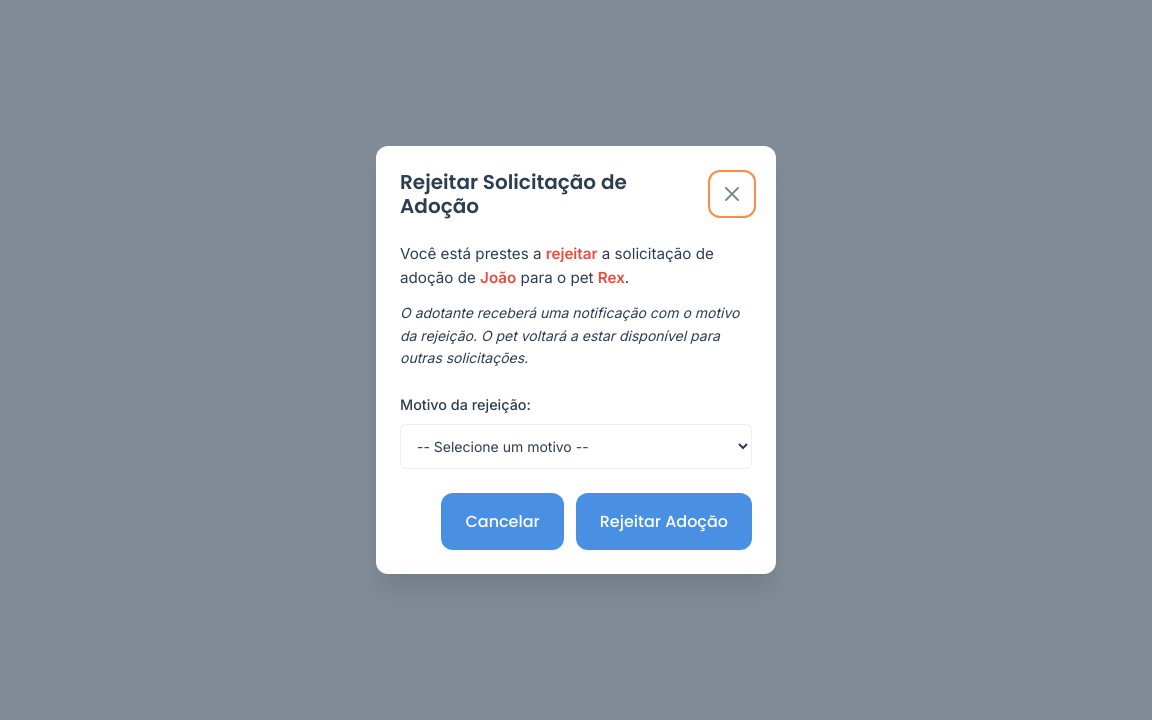
it: RejectionModal Component › Form Validation › should show error when no reason is selected
Click the button "Rejeitar Adoção". click: {"x": 664, "y": 522}
box: x1=576 y1=493 x2=752 y2=550
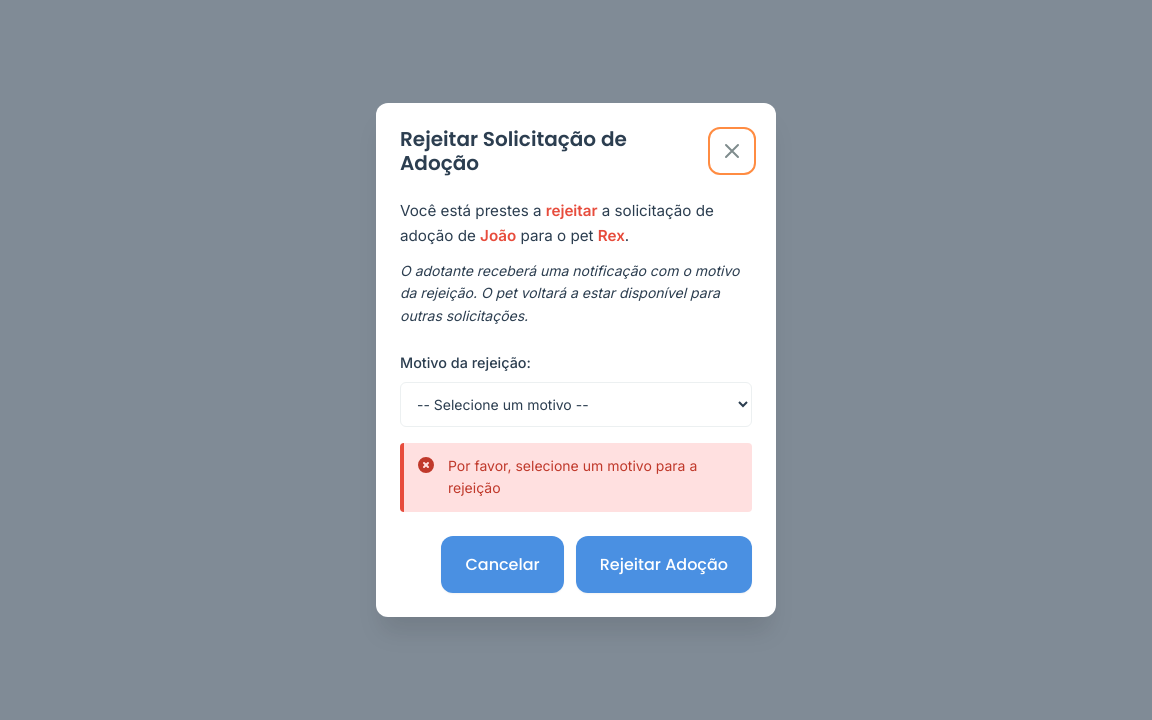
Check: the text "Por favor, selecione um motivo para a rejeição" is shown, box x1=400 y1=443 x2=752 y2=512
